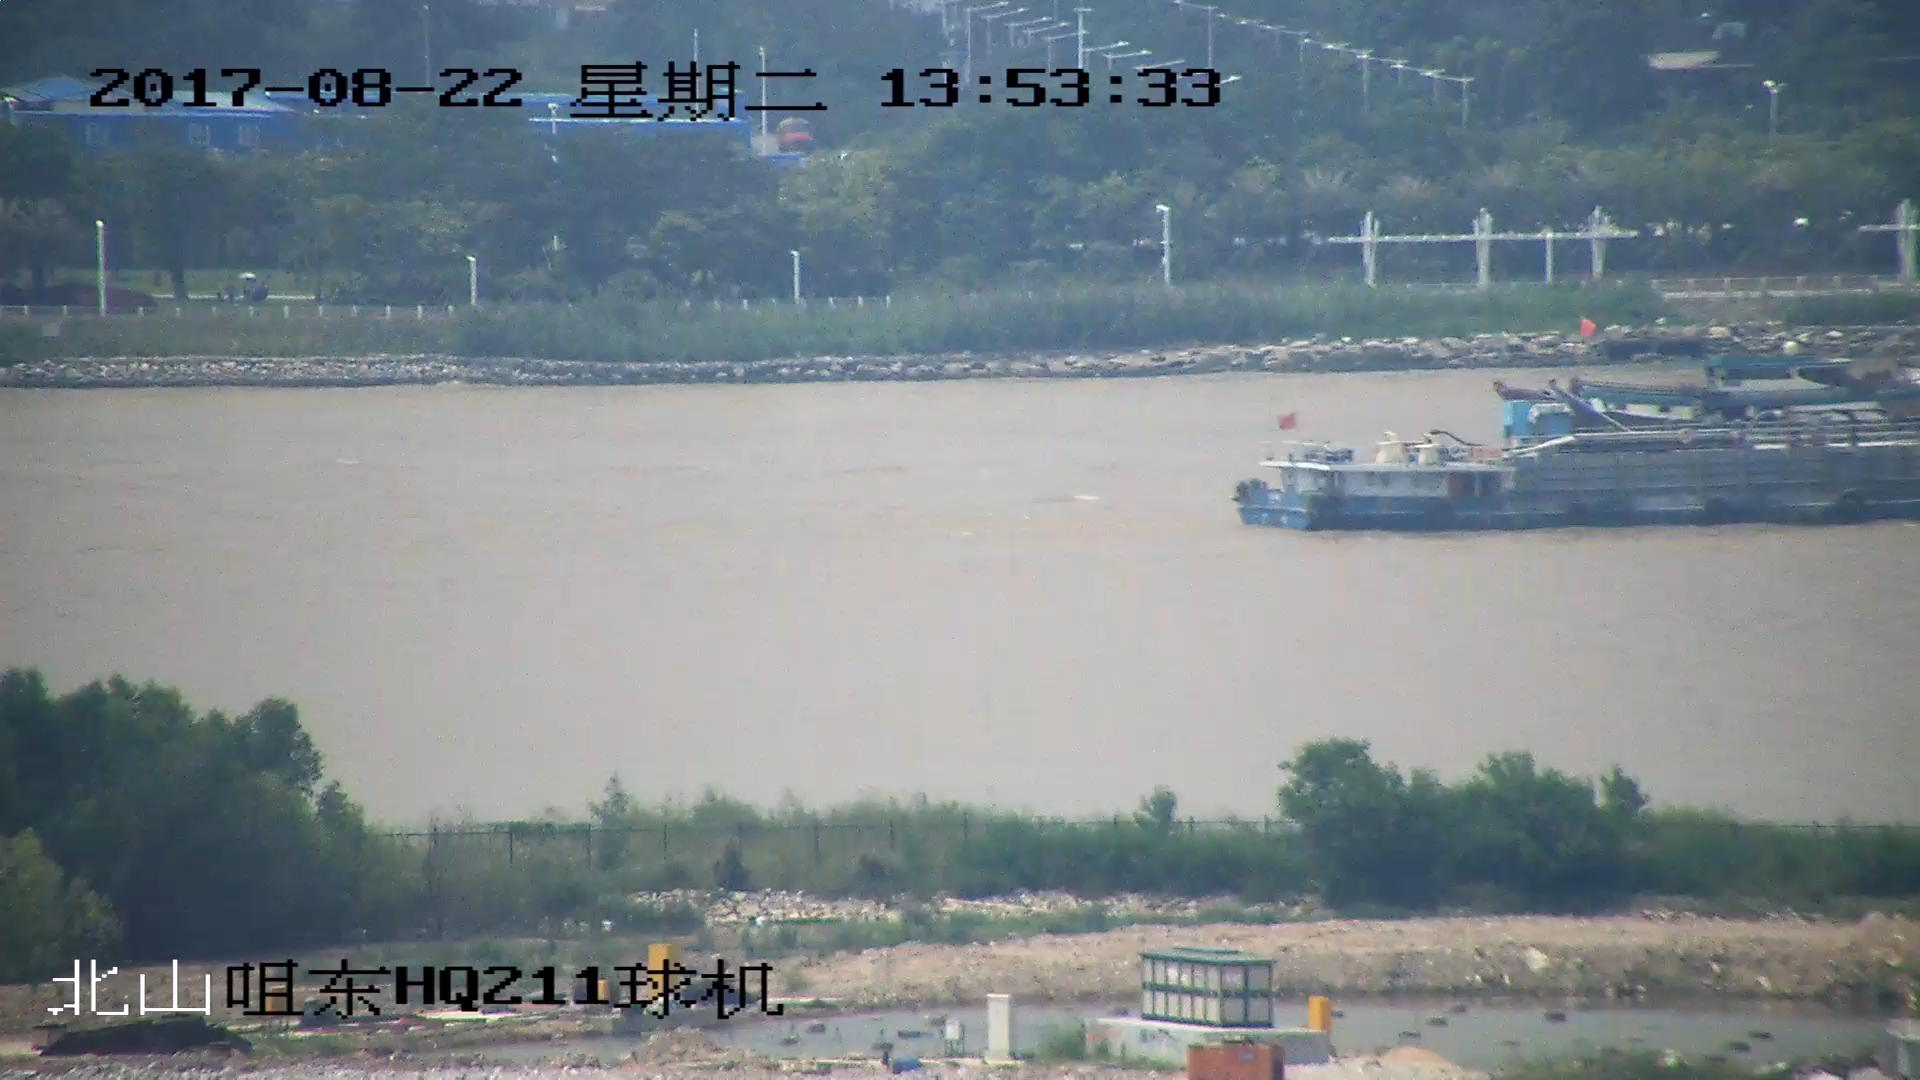Ship: (1232, 407, 1920, 535), (1490, 323, 1920, 454)
